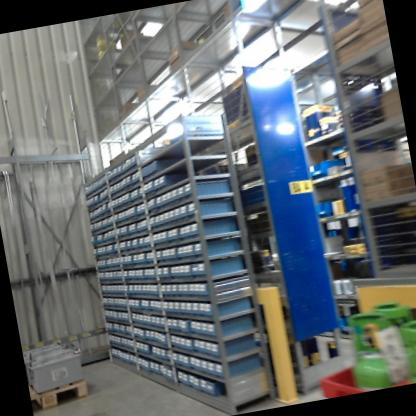pallet: (29, 365, 104, 416)
small_load_carrier: (313, 350, 416, 399)
